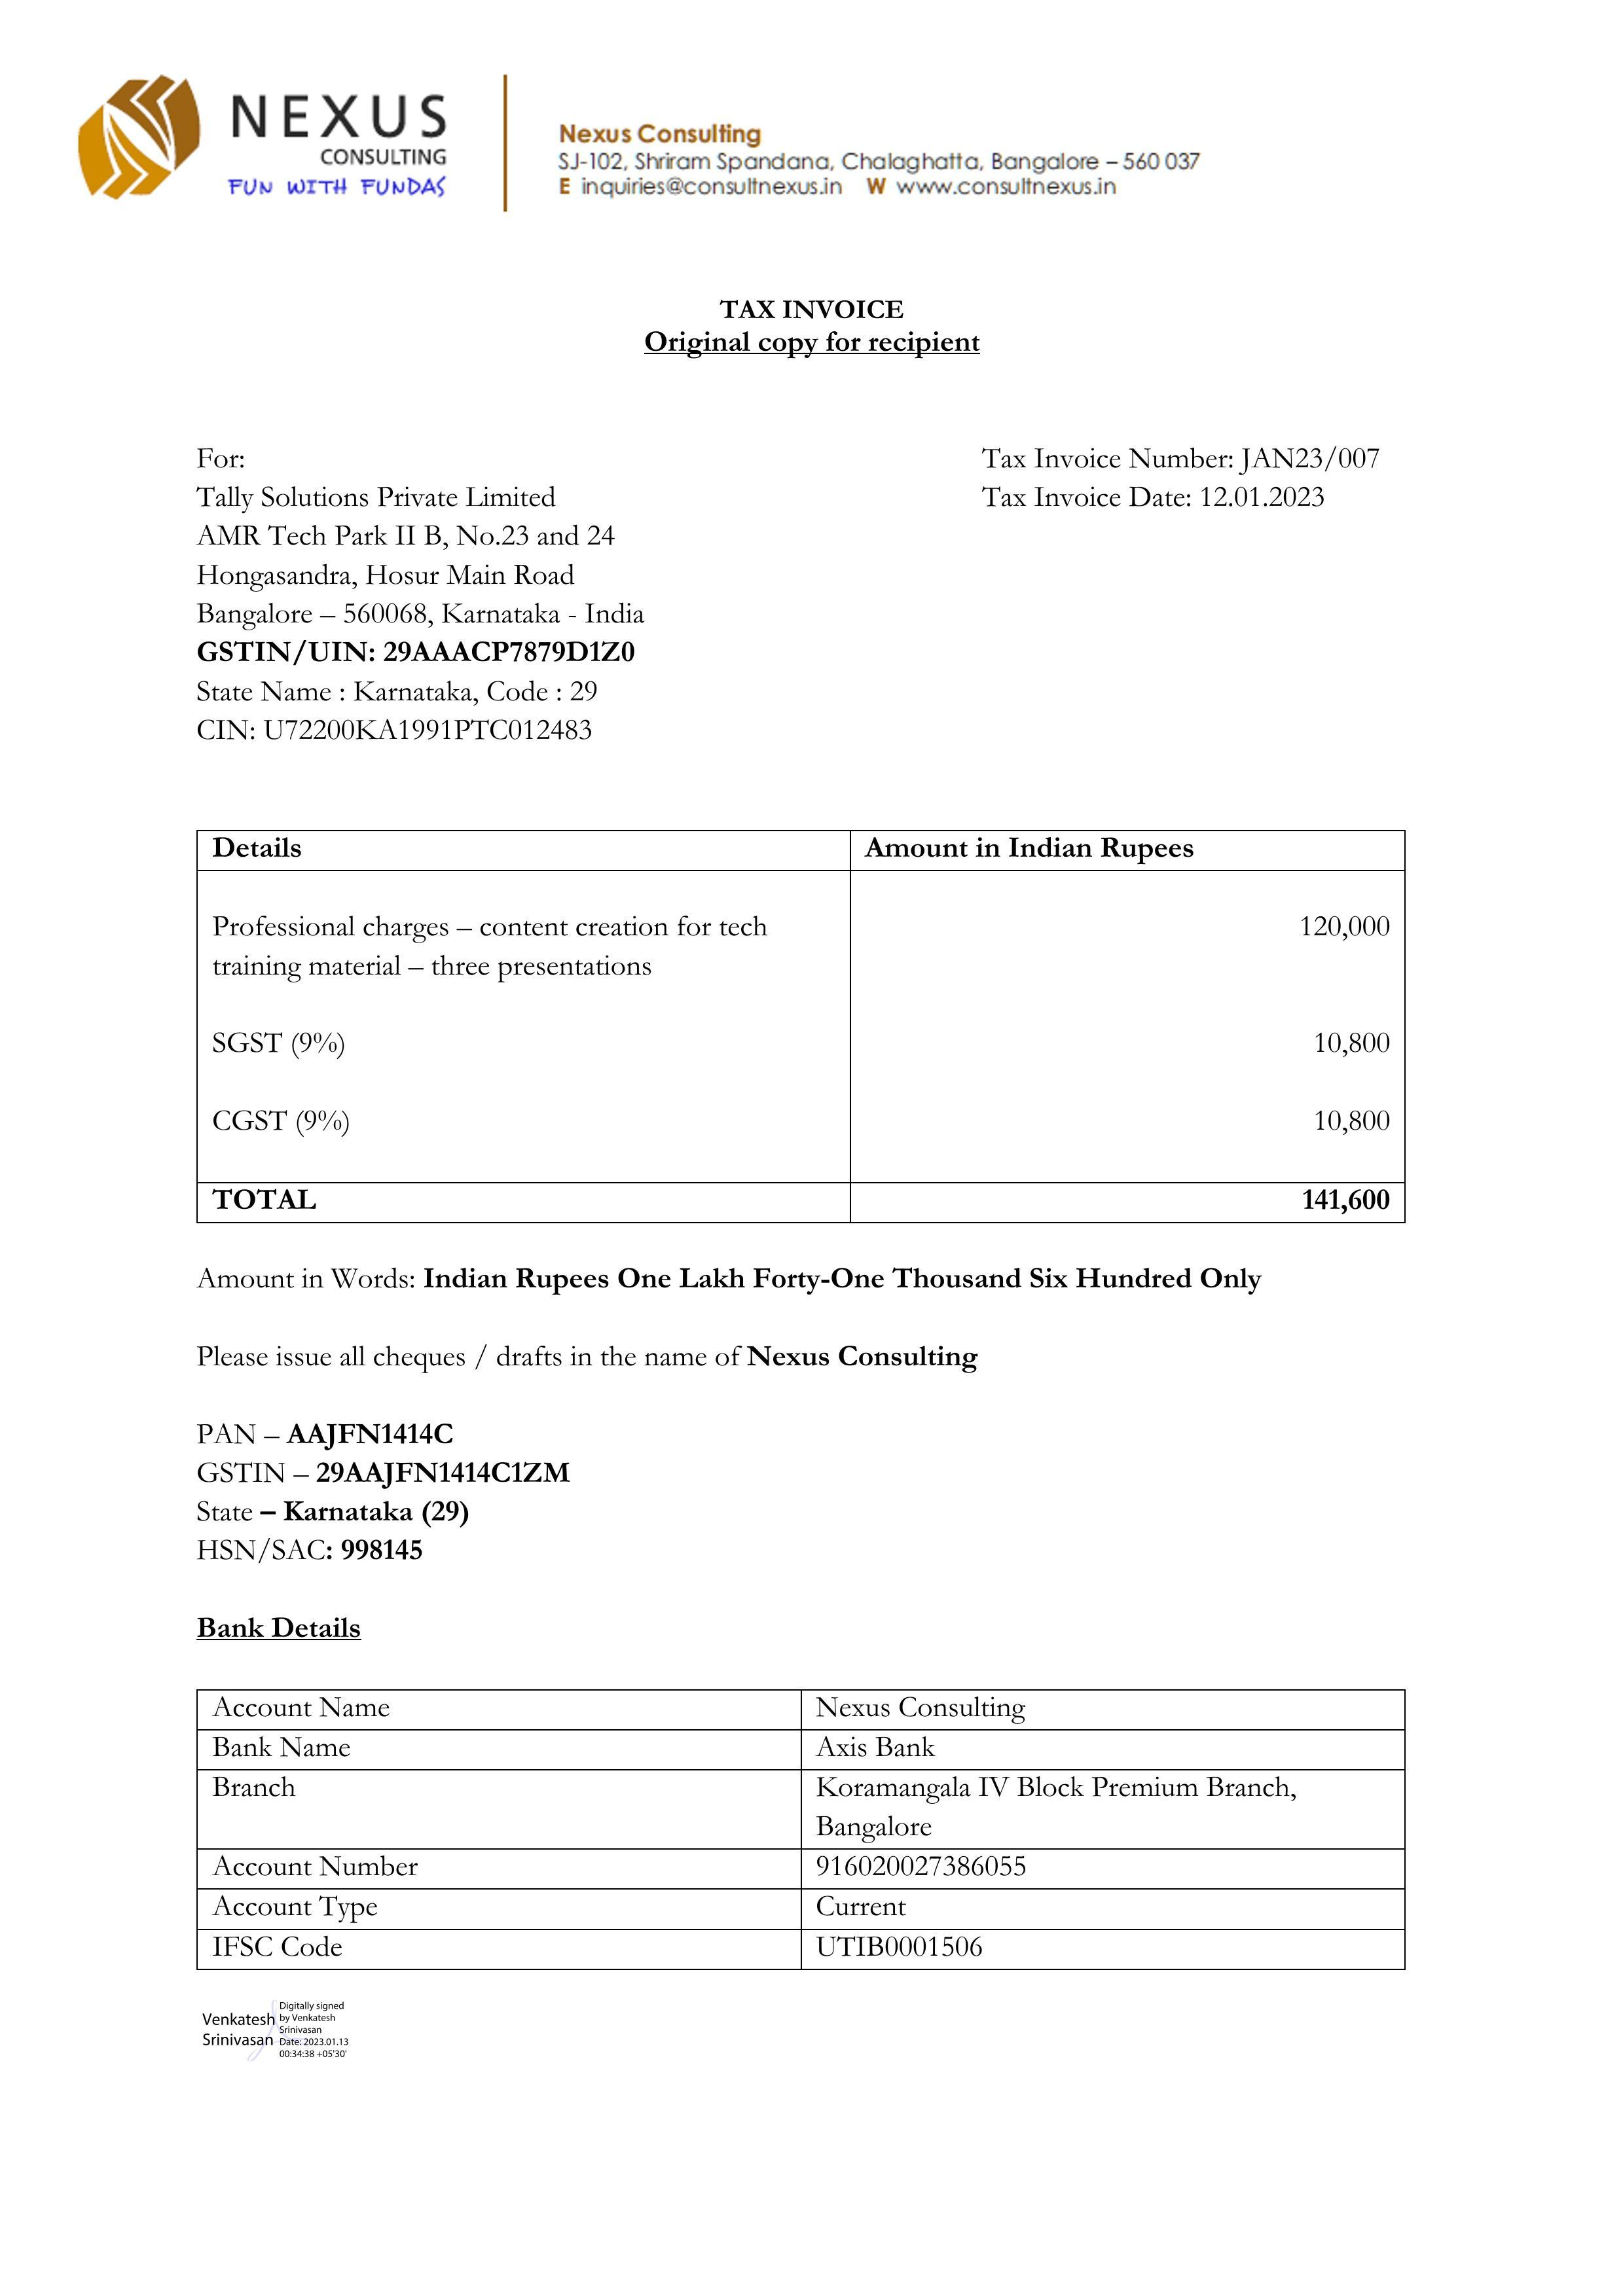InvoiceDate: (1201, 481, 1337, 513)
InvoiceNumber: (1235, 437, 1384, 481)
TotalAmount: (1300, 1181, 1396, 1216)
